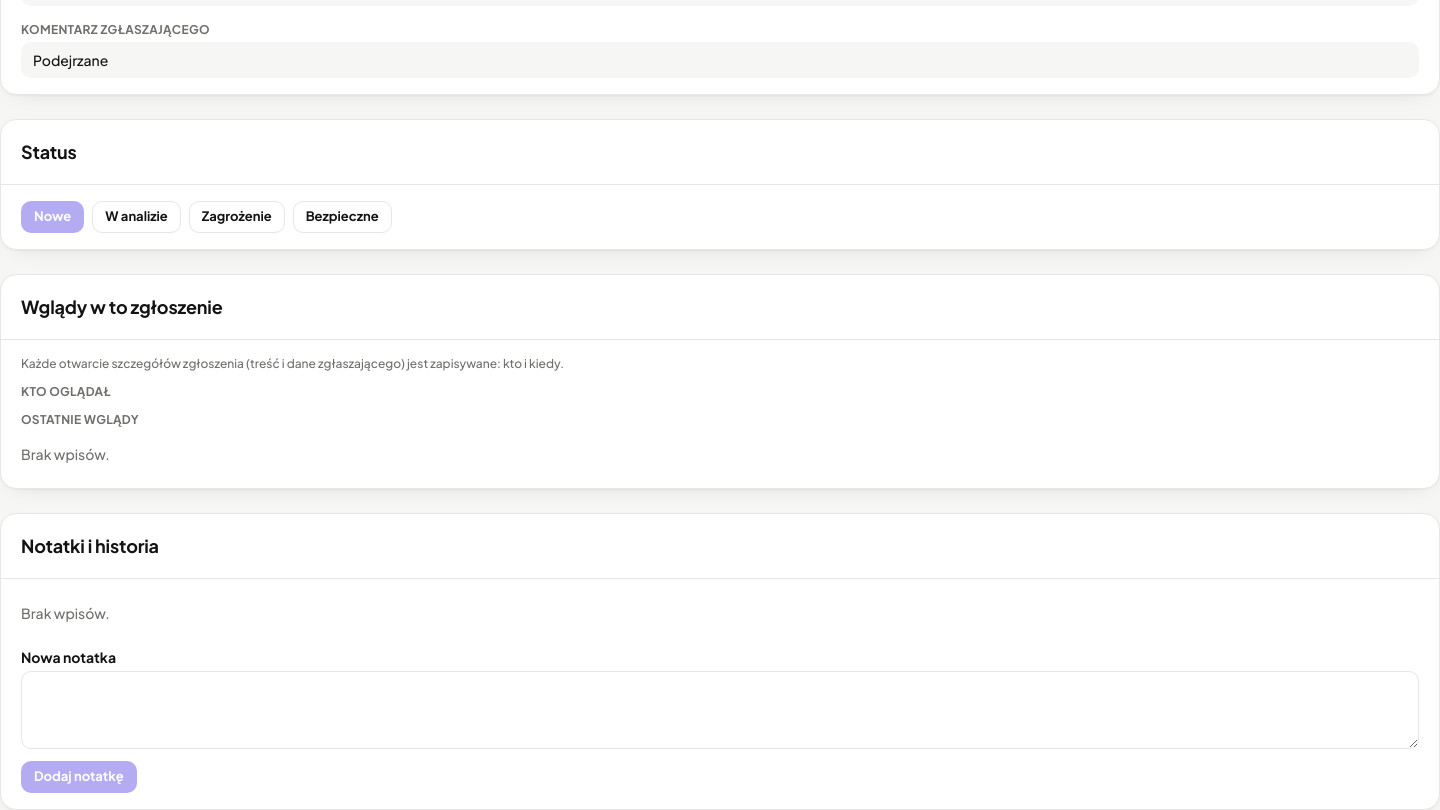
Test case: skrzynka zgłoszeń (web) › ReportDetail (ORG_ADMIN) › notatka: przycisk nieaktywny dla pustej; po dodaniu pole jest czyszczone, a wpis widać w historii (z autorem)
(page scrolled)
Expected: the button "Dodaj notatkę" is disabled, 21,761 -> 137,793
Type "Zweryfikowane z dostawcą" into the text box labelled "Nowa notatka" at (720, 710), box 21,671 -> 1419,749
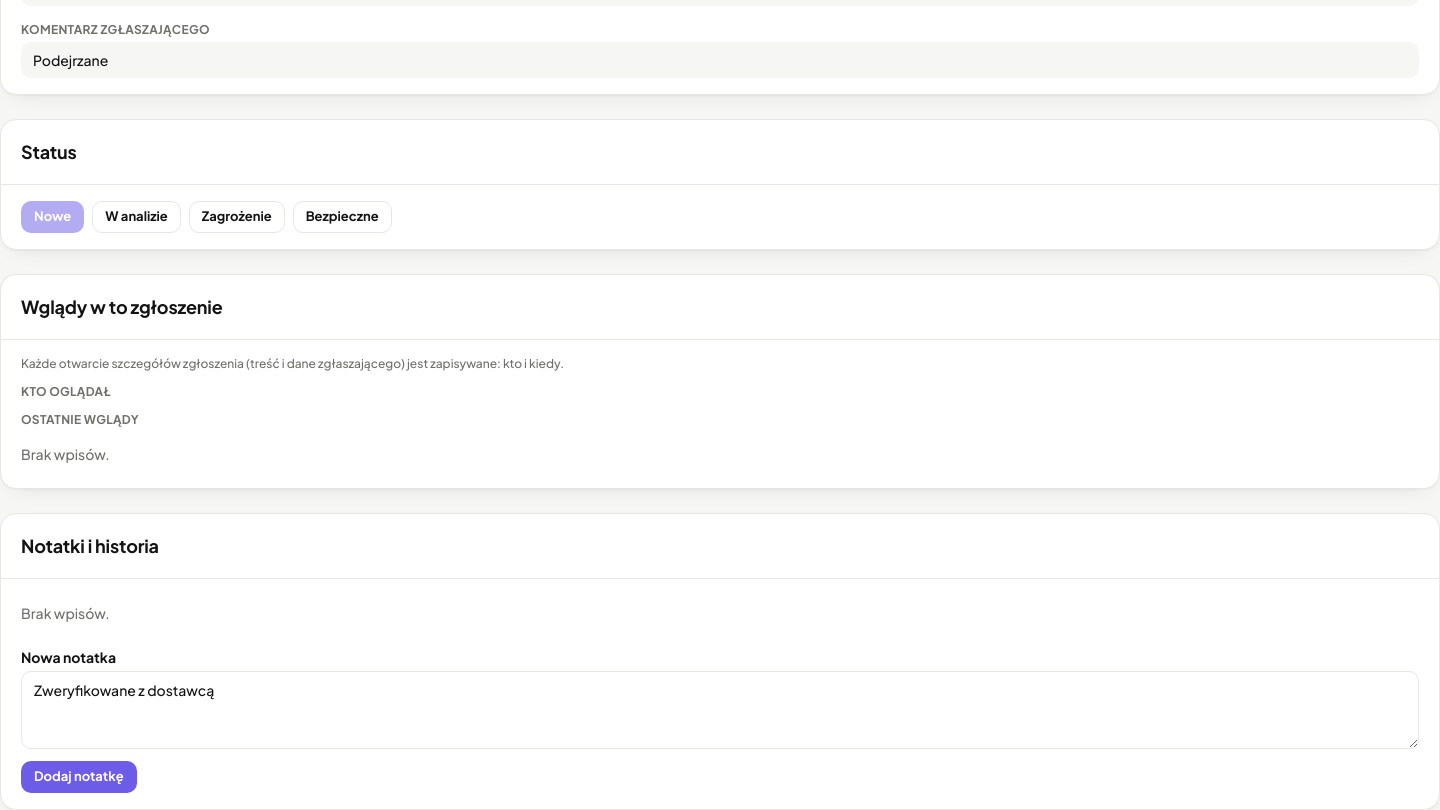
Click the button "Dodaj notatkę" at (79, 777), box 21,761 -> 137,793
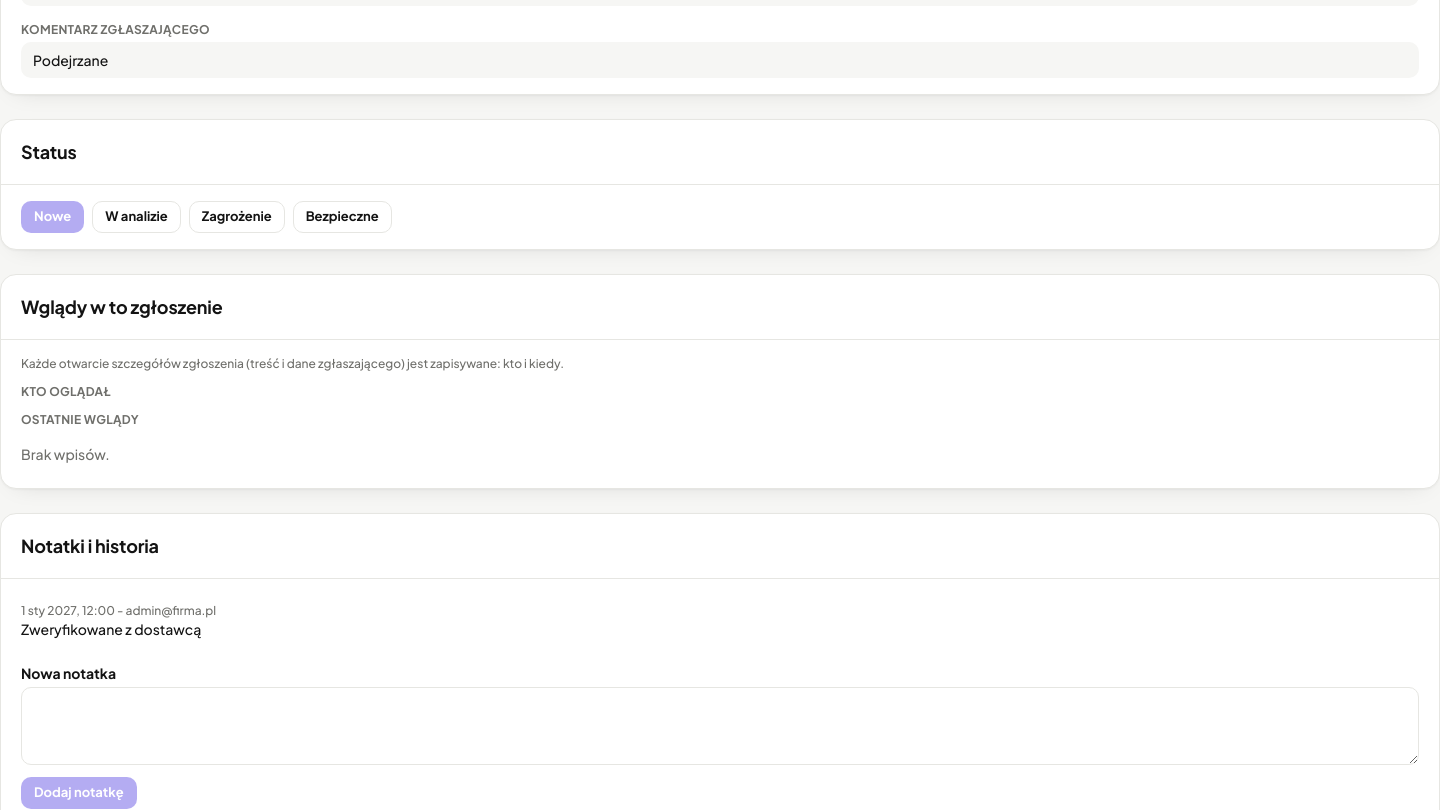
Now the text "Zweryfikowane z dostawcą" is shown, box 21,620 -> 201,638
Now the text box labelled "Nowa notatka" is empty, box 21,687 -> 1419,765
